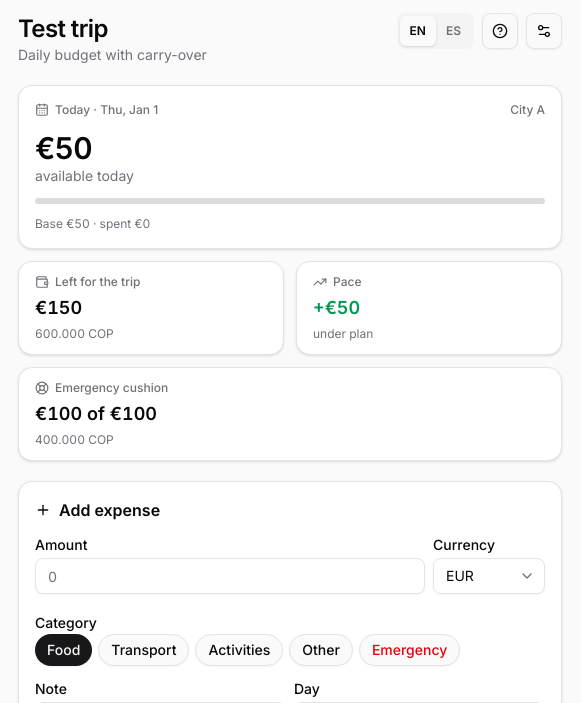
Scenario: adding expenses › converts other currencies before saving
In the number field labelled "Amount": (230, 576) [35,558,425,594], type "8"
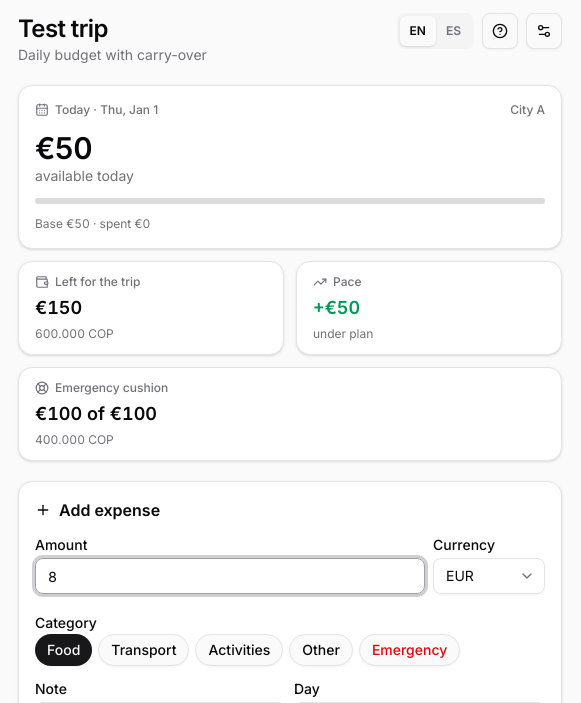
Select "CHF" in the dropdown labelled "Currency": (489, 576) [433,558,545,594]
(page scrolled)
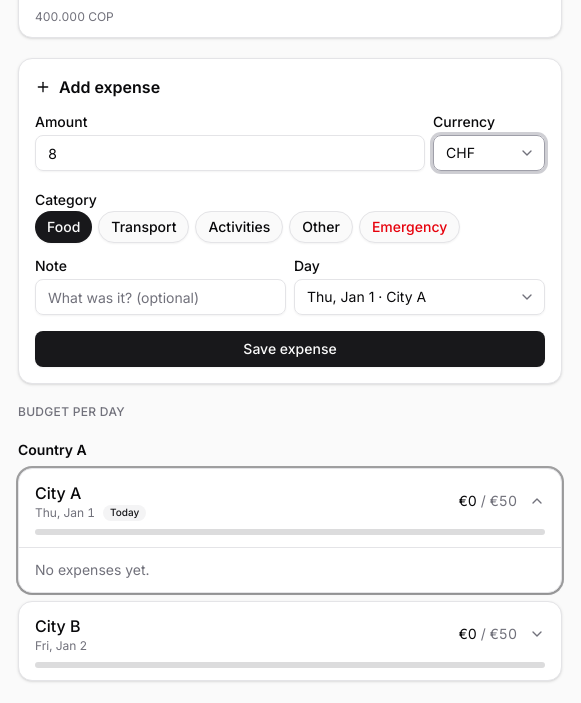
Click the button "Save expense": (290, 349) [35,331,545,367]
(page scrolled)
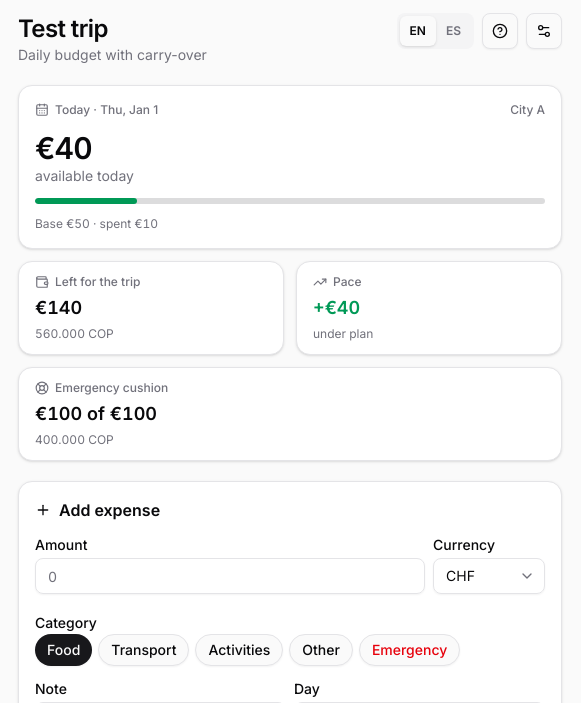
Check: the text with test id "available-today" reads "€40", box [35,130,92,166]
